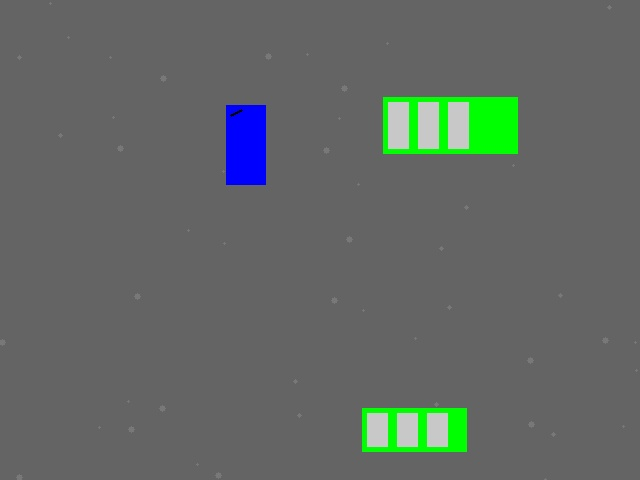bus: (383, 97, 517, 153), (362, 408, 466, 451)
motorcycle: (226, 105, 265, 184)
